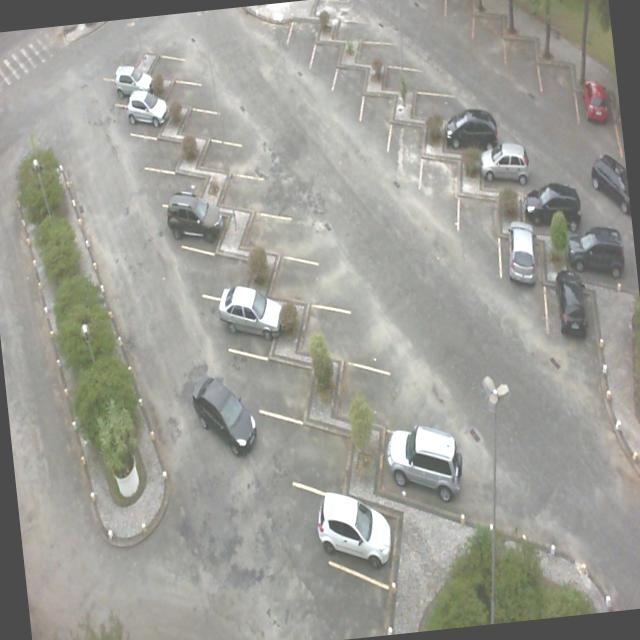empty: (280, 390, 366, 488), (322, 348, 402, 433), (247, 328, 323, 416), (300, 285, 368, 361), (264, 234, 336, 304), (241, 193, 308, 254), (194, 232, 258, 294), (219, 152, 283, 210), (457, 180, 504, 258), (177, 85, 238, 140), (153, 149, 212, 204), (416, 147, 464, 214), (382, 110, 429, 174), (135, 113, 189, 168), (282, 5, 326, 70), (358, 82, 400, 146), (306, 34, 351, 93), (202, 123, 256, 172), (384, 46, 437, 94), (329, 56, 372, 112), (538, 46, 574, 111), (412, 77, 459, 122), (334, 1, 384, 43), (164, 66, 213, 108), (144, 42, 193, 84), (502, 24, 538, 78), (472, 6, 508, 59), (360, 27, 404, 68)
occupied: (321, 463, 416, 586), (378, 416, 453, 504), (218, 276, 290, 356), (566, 228, 633, 297), (542, 276, 599, 353), (177, 184, 240, 248), (523, 178, 581, 242), (496, 218, 544, 294), (482, 140, 544, 196), (444, 104, 500, 156), (124, 88, 176, 134), (110, 60, 158, 106)
